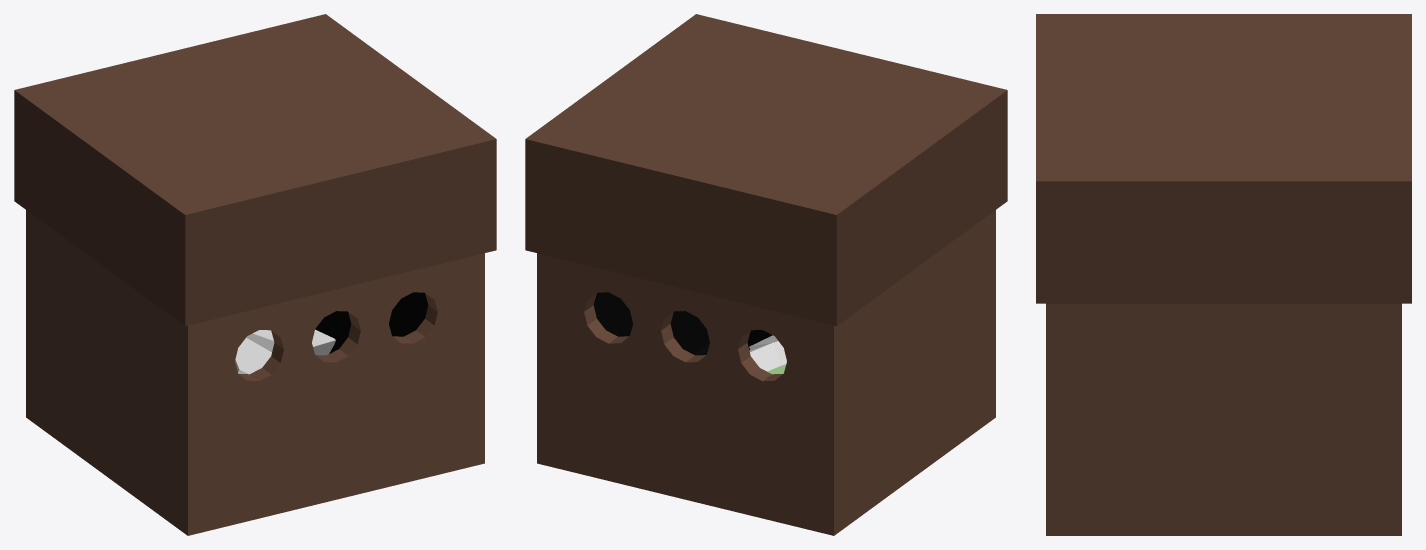
3 renders of one model, left to right at view 1: azimuth 30°, elevation 25°; view 2: azimuth 150°, elevation 25°; view 3: azimuth 270°, elevation 25°, orthographic. The views are drawn at different scales.
Parts seen in each view (by area): view 1: Moth; view 2: Moth; view 3: Moth.
Boxes of the visible parts, x1,y1,x2,y2 form: Moth: [14, 14, 496, 535]; Moth: [525, 14, 1007, 535]; Moth: [1036, 14, 1411, 535].
Bounding box in the file's own units: 100 × 100 × 95.
